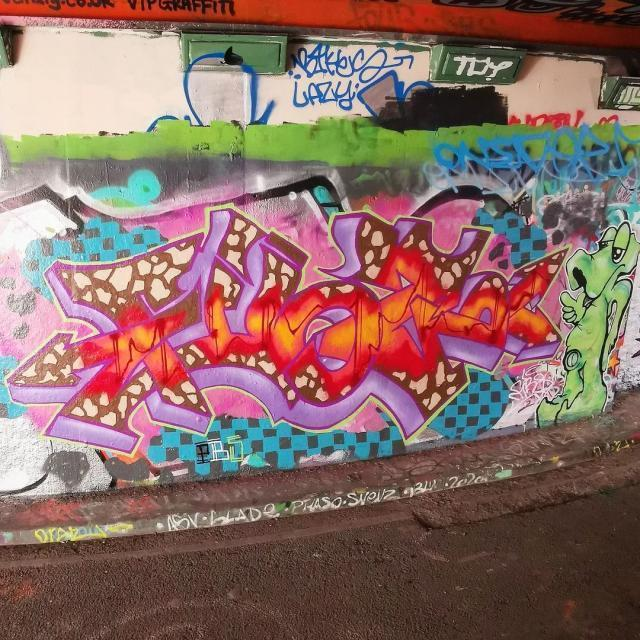nonspitting: (6, 199, 566, 456), (157, 472, 487, 532), (433, 127, 640, 182), (146, 51, 276, 132), (288, 43, 434, 112), (21, 492, 163, 521), (30, 520, 134, 546), (510, 108, 618, 126)
spitting: (538, 221, 640, 427)
